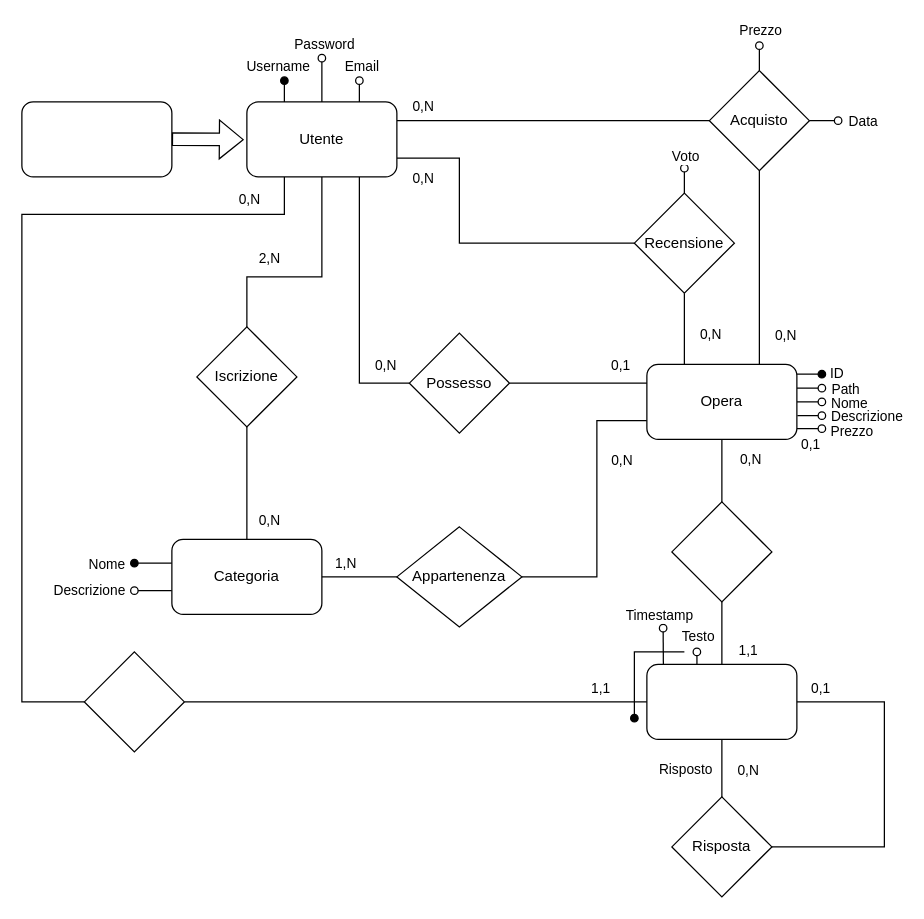
Image size: 924x919. Some labels were removed from this diagram. The centre of each missing label's shape, as x and y in pixels:
Admin: (x=96, y=139)
Commento: (x=721, y=701)
Relativo: (x=721, y=551)
Scritto: (x=133, y=701)
